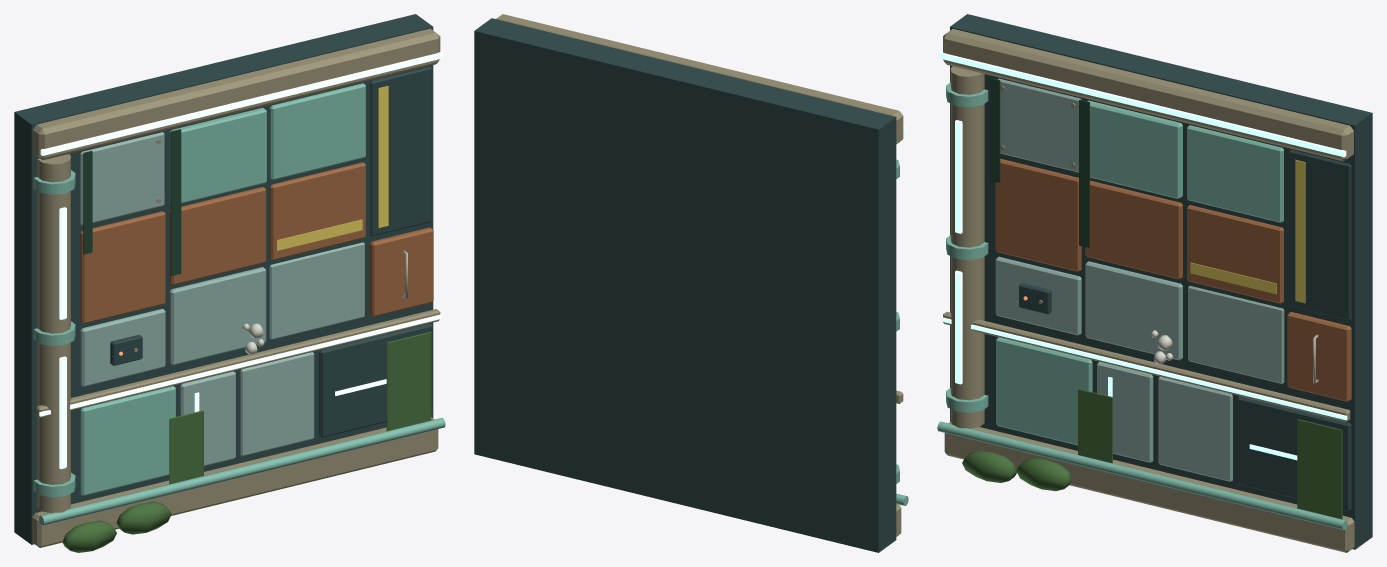
The model's file is wall_dr_plate2.glb.
3 renders of one model, left to right at view 1: azimuth 30°, elevation 25°; view 2: azimuth 150°, elevation 25°; view 3: azimuth 330°, elevation 25°, orthographic.
Parts seen in each view (by area): view 1: wall_dr_plate2; view 2: wall_dr_plate2; view 3: wall_dr_plate2.
Part boxes in pixels (<box>): wall_dr_plate2: <box>14,14,445,552</box>; wall_dr_plate2: <box>474,14,908,552</box>; wall_dr_plate2: <box>937,14,1372,552</box>.
Size of the model in its own units: 4 by 4.11 by 0.5659.
